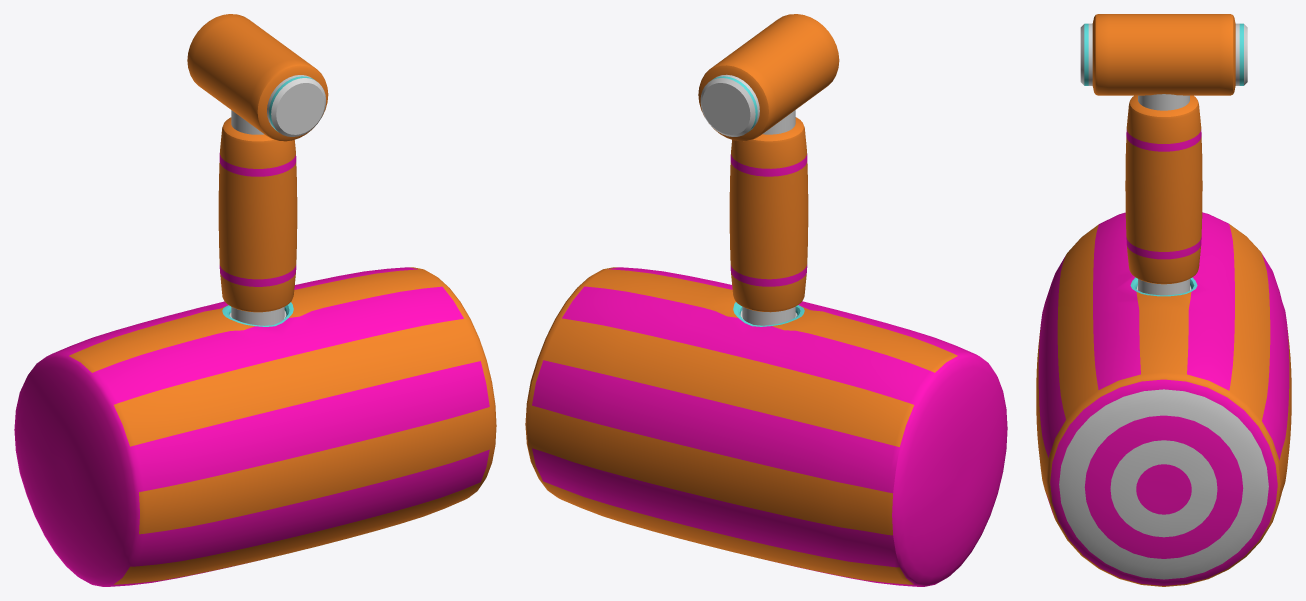
Rendered from Hammer.fbx.
3 renders of one model, left to right at view 1: azimuth 30°, elevation 25°; view 2: azimuth 150°, elevation 25°; view 3: azimuth 270°, elevation 25°, orthographic. The views are drawn at different scales.
Visible parts, largest first — view 1: Cylinder; view 2: Cylinder; view 3: Cylinder.
Boxes of the visible parts, <box> form: Cylinder: <box>14,14,496,586</box>; Cylinder: <box>525,14,1007,586</box>; Cylinder: <box>1036,14,1291,586</box>.
Bounding box in the file's own units: 1077 × 1336 × 626.
